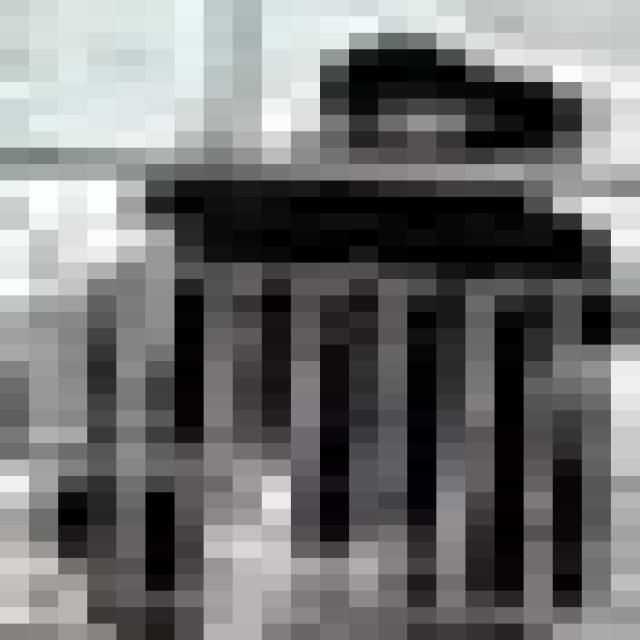door: (0, 0, 611, 624)
tyre: (291, 16, 582, 148)
